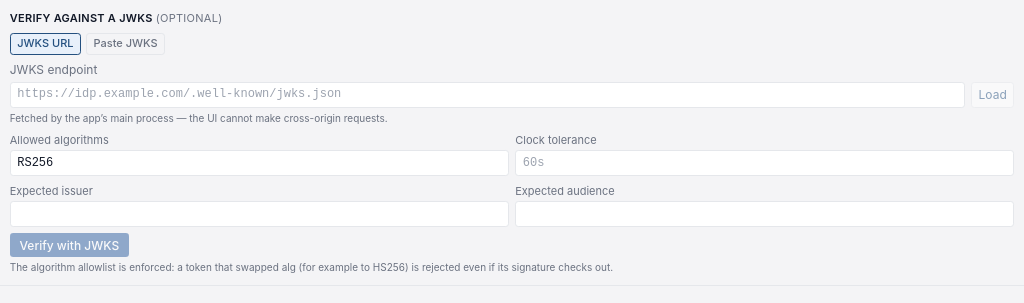
a failed key-set fetch is reported as a fetch failure (JWT-1) › reports a successful load with the key count
The width and height of the screenshot is (1024, 303).
Type "https://idp.example.test/.well-known/jwks.json" into the field labelled "JWKS endpoint".
click(487, 95); type("https://idp.example.test/.well-known/jwks.json")  # box [10, 82, 965, 108]
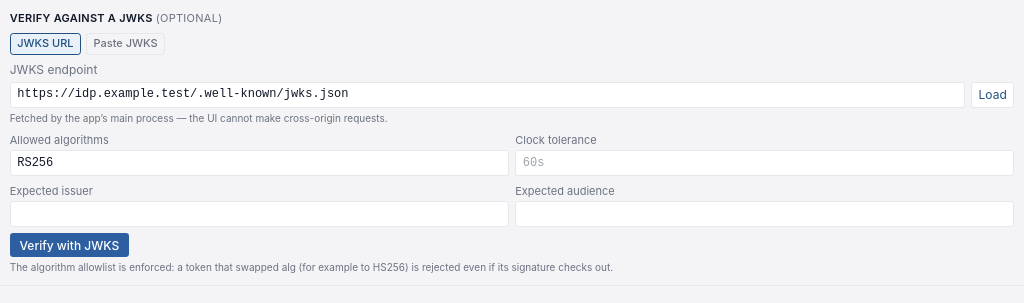
Click the button "Load".
click(993, 95)  # box [971, 82, 1014, 108]
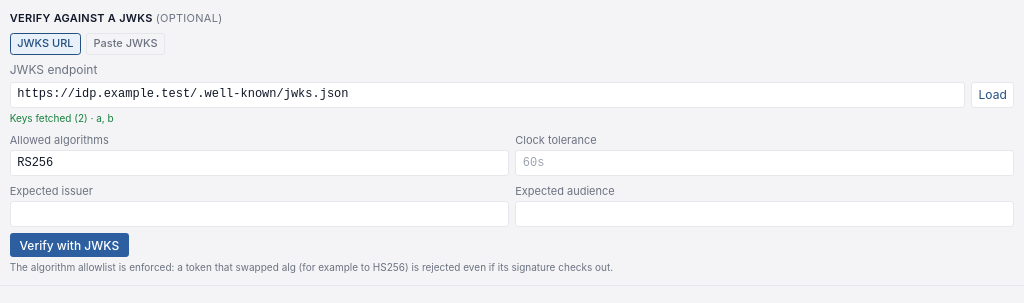
Expected: the message shows "Keys fetched", [10, 112, 72, 124]
Expected: the message shows "2", [78, 112, 84, 124]
Expected: the message shows "a, b", [88, 112, 114, 124]
